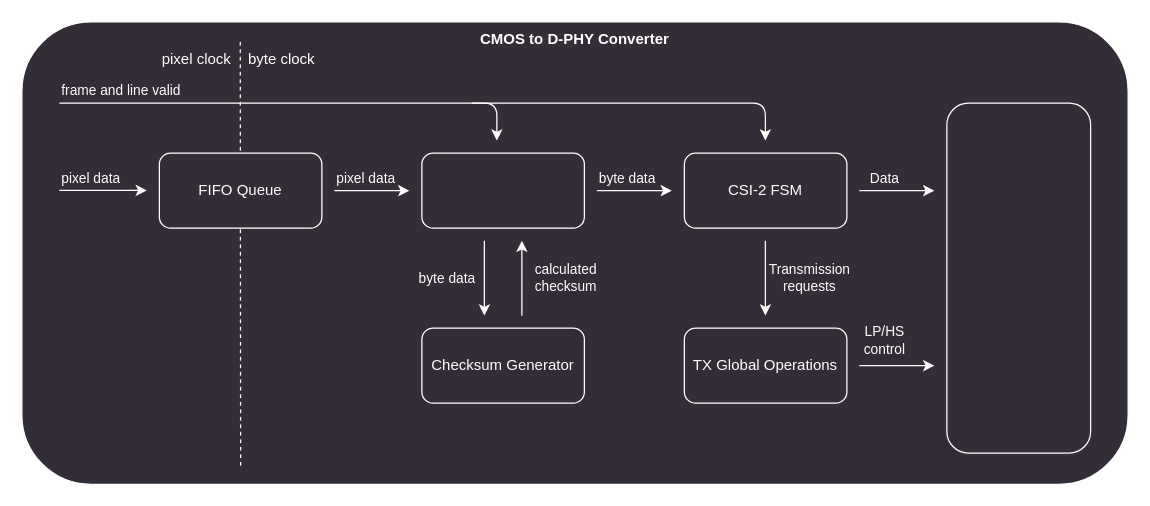
Image size: 1150x506. Some labels were removed from this diagram. The shapes that lost their labels are listed below. From the top down, each one's centre as x and y in pixels, then its label:
point (502, 190): Packet Formatter
point (1018, 277): Hardened TX D-PHY
